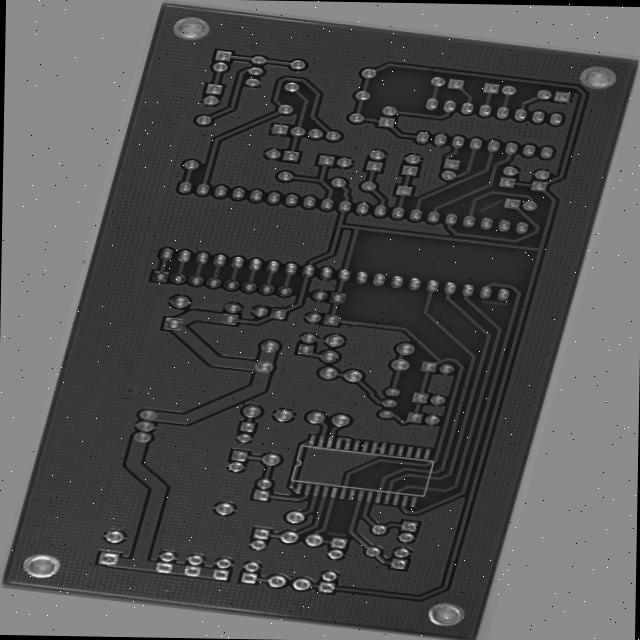spurious_copper: (482, 168, 519, 191), (514, 275, 555, 288), (393, 540, 426, 548)
